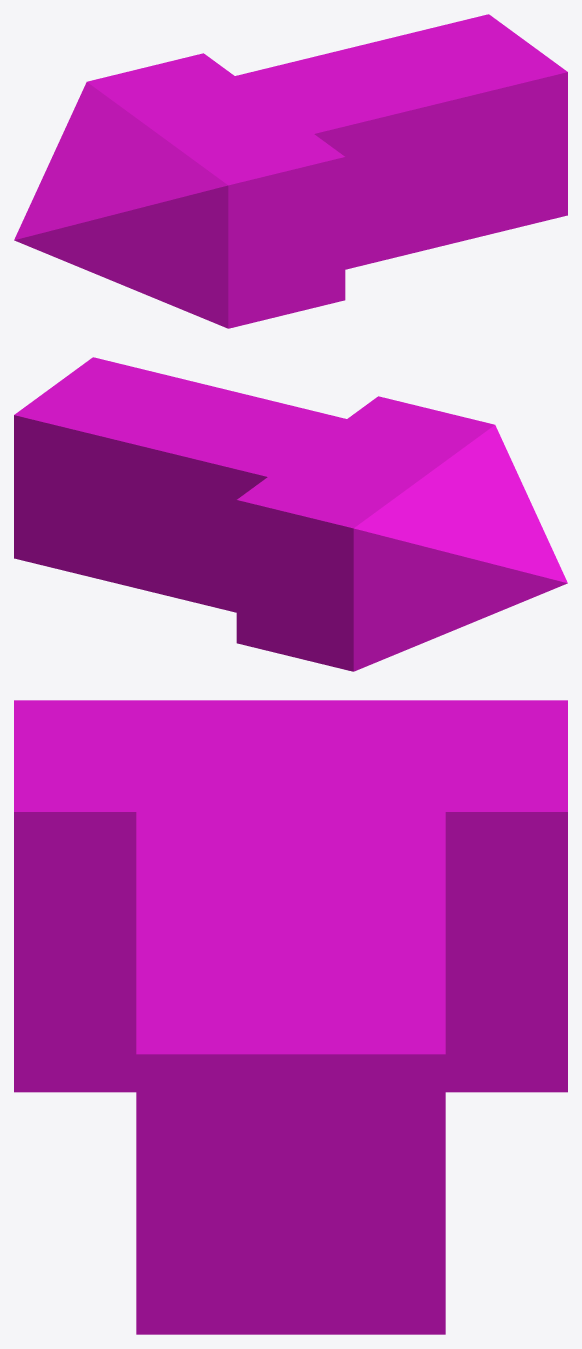
The model's file is arrow.glb.
3 views of the same model, one above another, from view 1: azimuth 30°, elevation 25°; view 2: azimuth 150°, elevation 25°; view 3: azimuth 270°, elevation 25° (orthographic). The views are drawn at different scales.
Parts seen in each view (by area): view 1: Cube; view 2: Cube; view 3: Cube.
Part boxes in pixels (box(x1,y1,x2,y2)): Cube: box(14, 14, 567, 328); Cube: box(14, 357, 567, 671); Cube: box(14, 700, 567, 1334).
Bounding box in the file's own units: 7.14 × 1.9 × 3.41.
